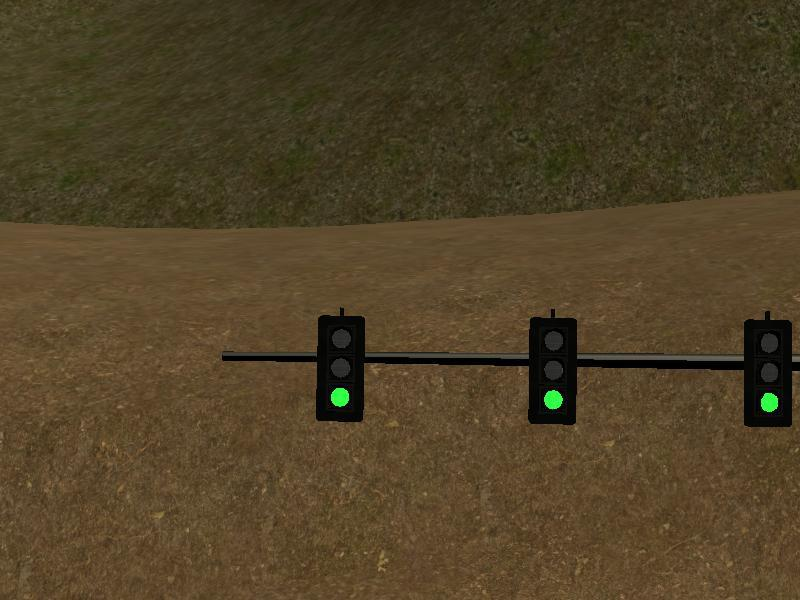Green: (746, 321, 785, 428), (322, 317, 361, 423), (532, 320, 572, 423)
